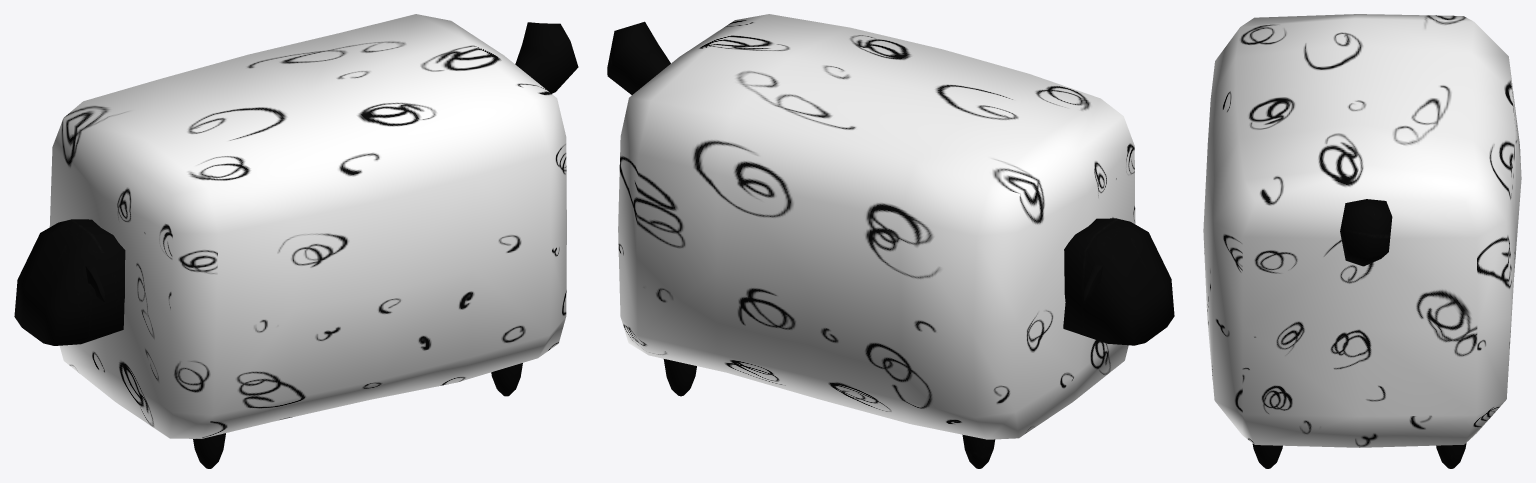
The model's file is sheep.fbx.
3 views of the same model, side by side, from view 1: azimuth 30°, elevation 25°; view 2: azimuth 150°, elevation 25°; view 3: azimuth 270°, elevation 25° (orthographic).
Visible parts, largest first — view 1: Oveja.001, Cabeza.001, Cola, Sphere; view 2: Oveja.001, Cabeza.001, Cola, Sphere; view 3: Oveja.001, Cola, Sphere.
Boxes of the visible parts, x1,y1,x2,y2 form: Oveja.001: (49,14,566,438); Cabeza.001: (14,219,125,345); Cola: (515,22,578,93); Sphere: (193,363,522,468); Oveja.001: (618,14,1135,439); Cabeza.001: (1063,218,1174,345); Cola: (607,21,670,94); Sphere: (663,359,995,468); Oveja.001: (1203,14,1521,447); Cola: (1340,199,1392,266); Sphere: (1252,443,1466,468).
Size of the model in its own units: 4.45 by 2.49 by 2.29.
